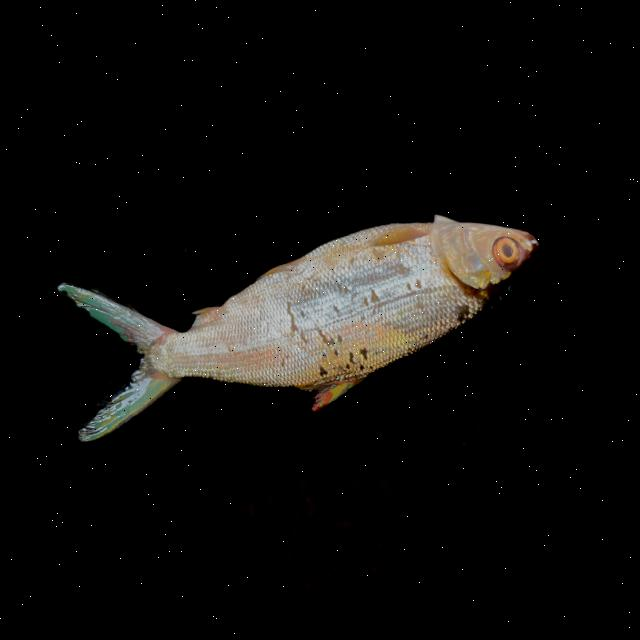560 g: (38, 161, 564, 472)
